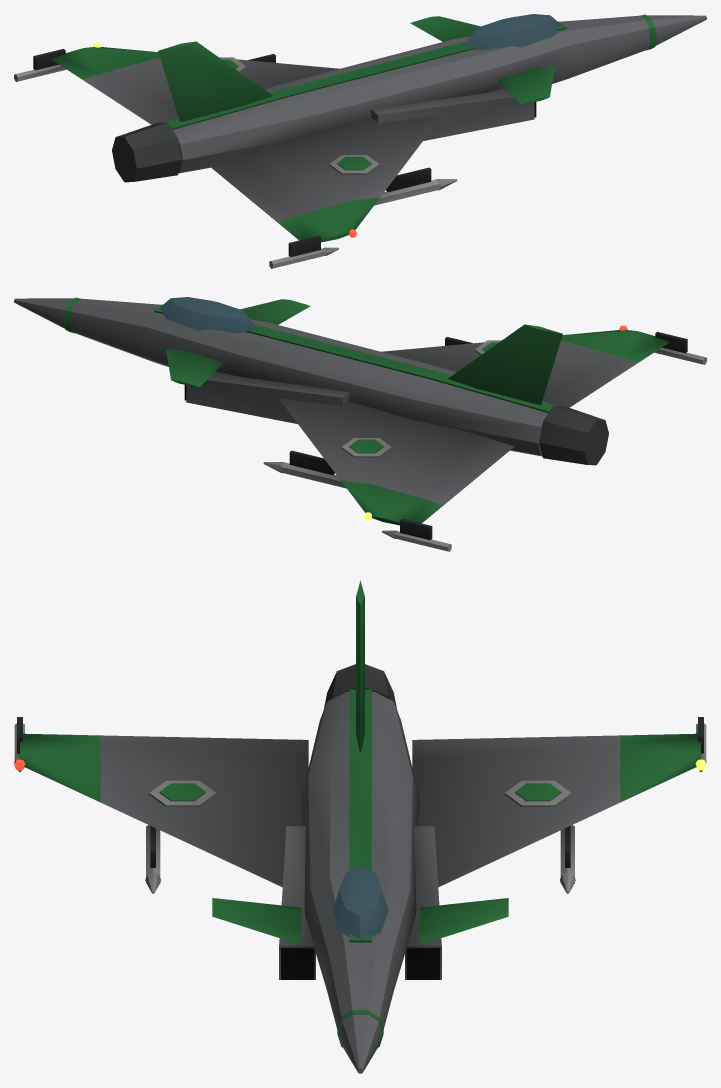
The model's file is u_intercept_lod1.glb.
3 renders of one model, top to bottom at view 1: azimuth 30°, elevation 25°; view 2: azimuth 150°, elevation 25°; view 3: azimuth 270°, elevation 25°, orthographic. The views are drawn at different scales.
Visible parts, largest first — view 1: Intercept_LOD1_Walls, Intercept_LOD1_Details; view 2: Intercept_LOD1_Walls, Intercept_LOD1_Details; view 3: Intercept_LOD1_Walls, Intercept_LOD1_Details.
Part boxes in pixels (box(x1,y1,x2,y2)): Intercept_LOD1_Walls: box(51, 15, 706, 242); Intercept_LOD1_Details: box(14, 14, 656, 268); Intercept_LOD1_Walls: box(14, 298, 669, 525); Intercept_LOD1_Details: box(64, 297, 706, 551); Intercept_LOD1_Walls: box(20, 580, 700, 1073); Intercept_LOD1_Details: box(14, 664, 706, 1047).
Size of the model in its own units: 0.8954 by 0.1939 by 0.6926.
